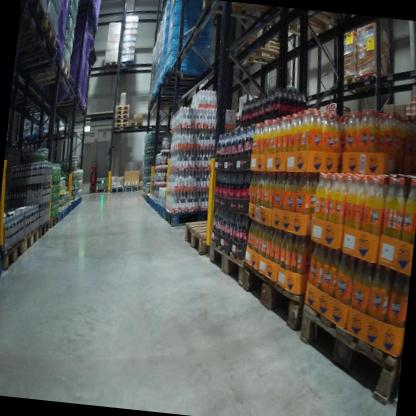pallet: (286, 291, 406, 412), (237, 255, 311, 341), (194, 0, 291, 29), (182, 209, 235, 262), (17, 10, 64, 69), (204, 233, 256, 283), (276, 7, 348, 41), (22, 54, 73, 102), (222, 34, 283, 73), (162, 197, 208, 233), (41, 92, 89, 121), (355, 69, 393, 98), (1, 237, 24, 274), (25, 0, 52, 29), (336, 67, 366, 91), (22, 222, 40, 257), (147, 95, 186, 111), (100, 54, 118, 79), (36, 220, 51, 242), (118, 56, 136, 73), (42, 126, 58, 144), (55, 125, 74, 139), (155, 201, 167, 222), (122, 183, 140, 196), (112, 100, 130, 112), (48, 210, 60, 228), (0, 250, 6, 285), (152, 196, 163, 214), (30, 130, 42, 146), (20, 131, 32, 146), (56, 206, 67, 222), (112, 122, 130, 131), (109, 186, 124, 196), (113, 117, 129, 126), (129, 119, 142, 130), (114, 114, 129, 122), (114, 109, 129, 117), (64, 203, 72, 216), (148, 195, 154, 209), (145, 191, 151, 205), (140, 187, 146, 200), (70, 200, 76, 211), (73, 198, 78, 211), (76, 196, 82, 206), (143, 190, 147, 203)
